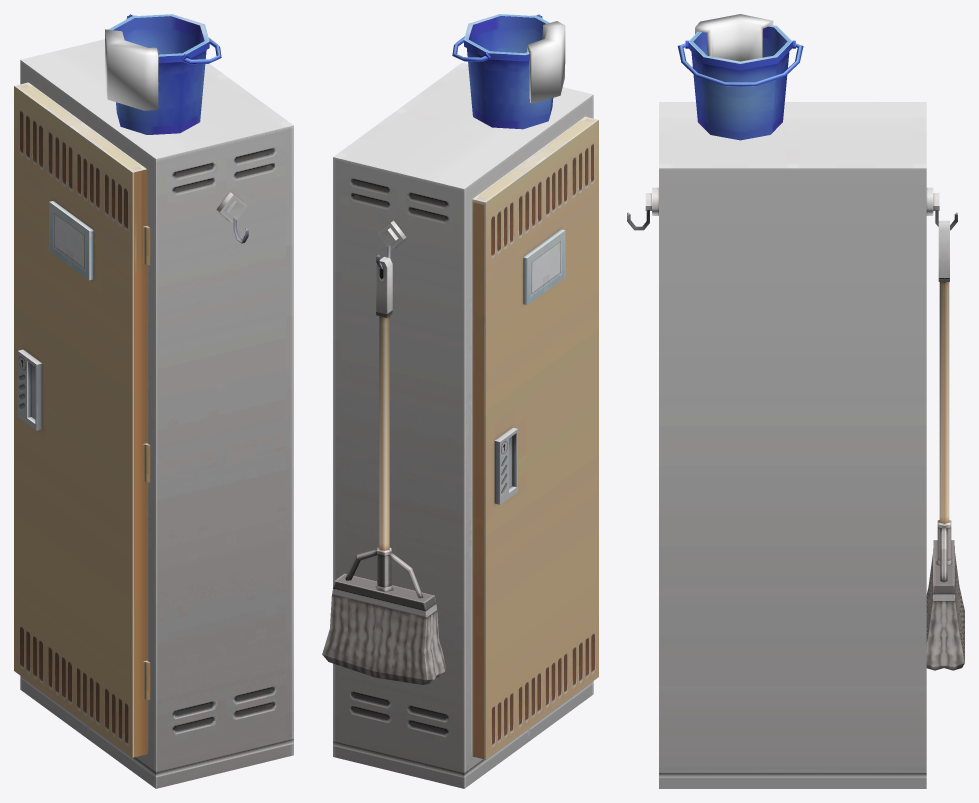
Rendered from my_abydosclassroom_01_cabinet_01.glb.
The picture shows the model from 3 angles, left to right: view 1: azimuth 30°, elevation 25°; view 2: azimuth 150°, elevation 25°; view 3: azimuth 270°, elevation 25°; orthographic projection. The views are drawn at different scales.
Visible parts, largest first — view 1: my_abydosclassroom_01_cabinet_01; view 2: my_abydosclassroom_01_cabinet_01; view 3: my_abydosclassroom_01_cabinet_01.
Part boxes in pixels (x1,y1,x2,y2): my_abydosclassroom_01_cabinet_01: (14,14,293,788); my_abydosclassroom_01_cabinet_01: (322,14,598,788); my_abydosclassroom_01_cabinet_01: (627,14,964,788).
Bounding box in the file's own units: 0.00387 × 0.0168 × 0.00727.
2 materials, 2 textured.
